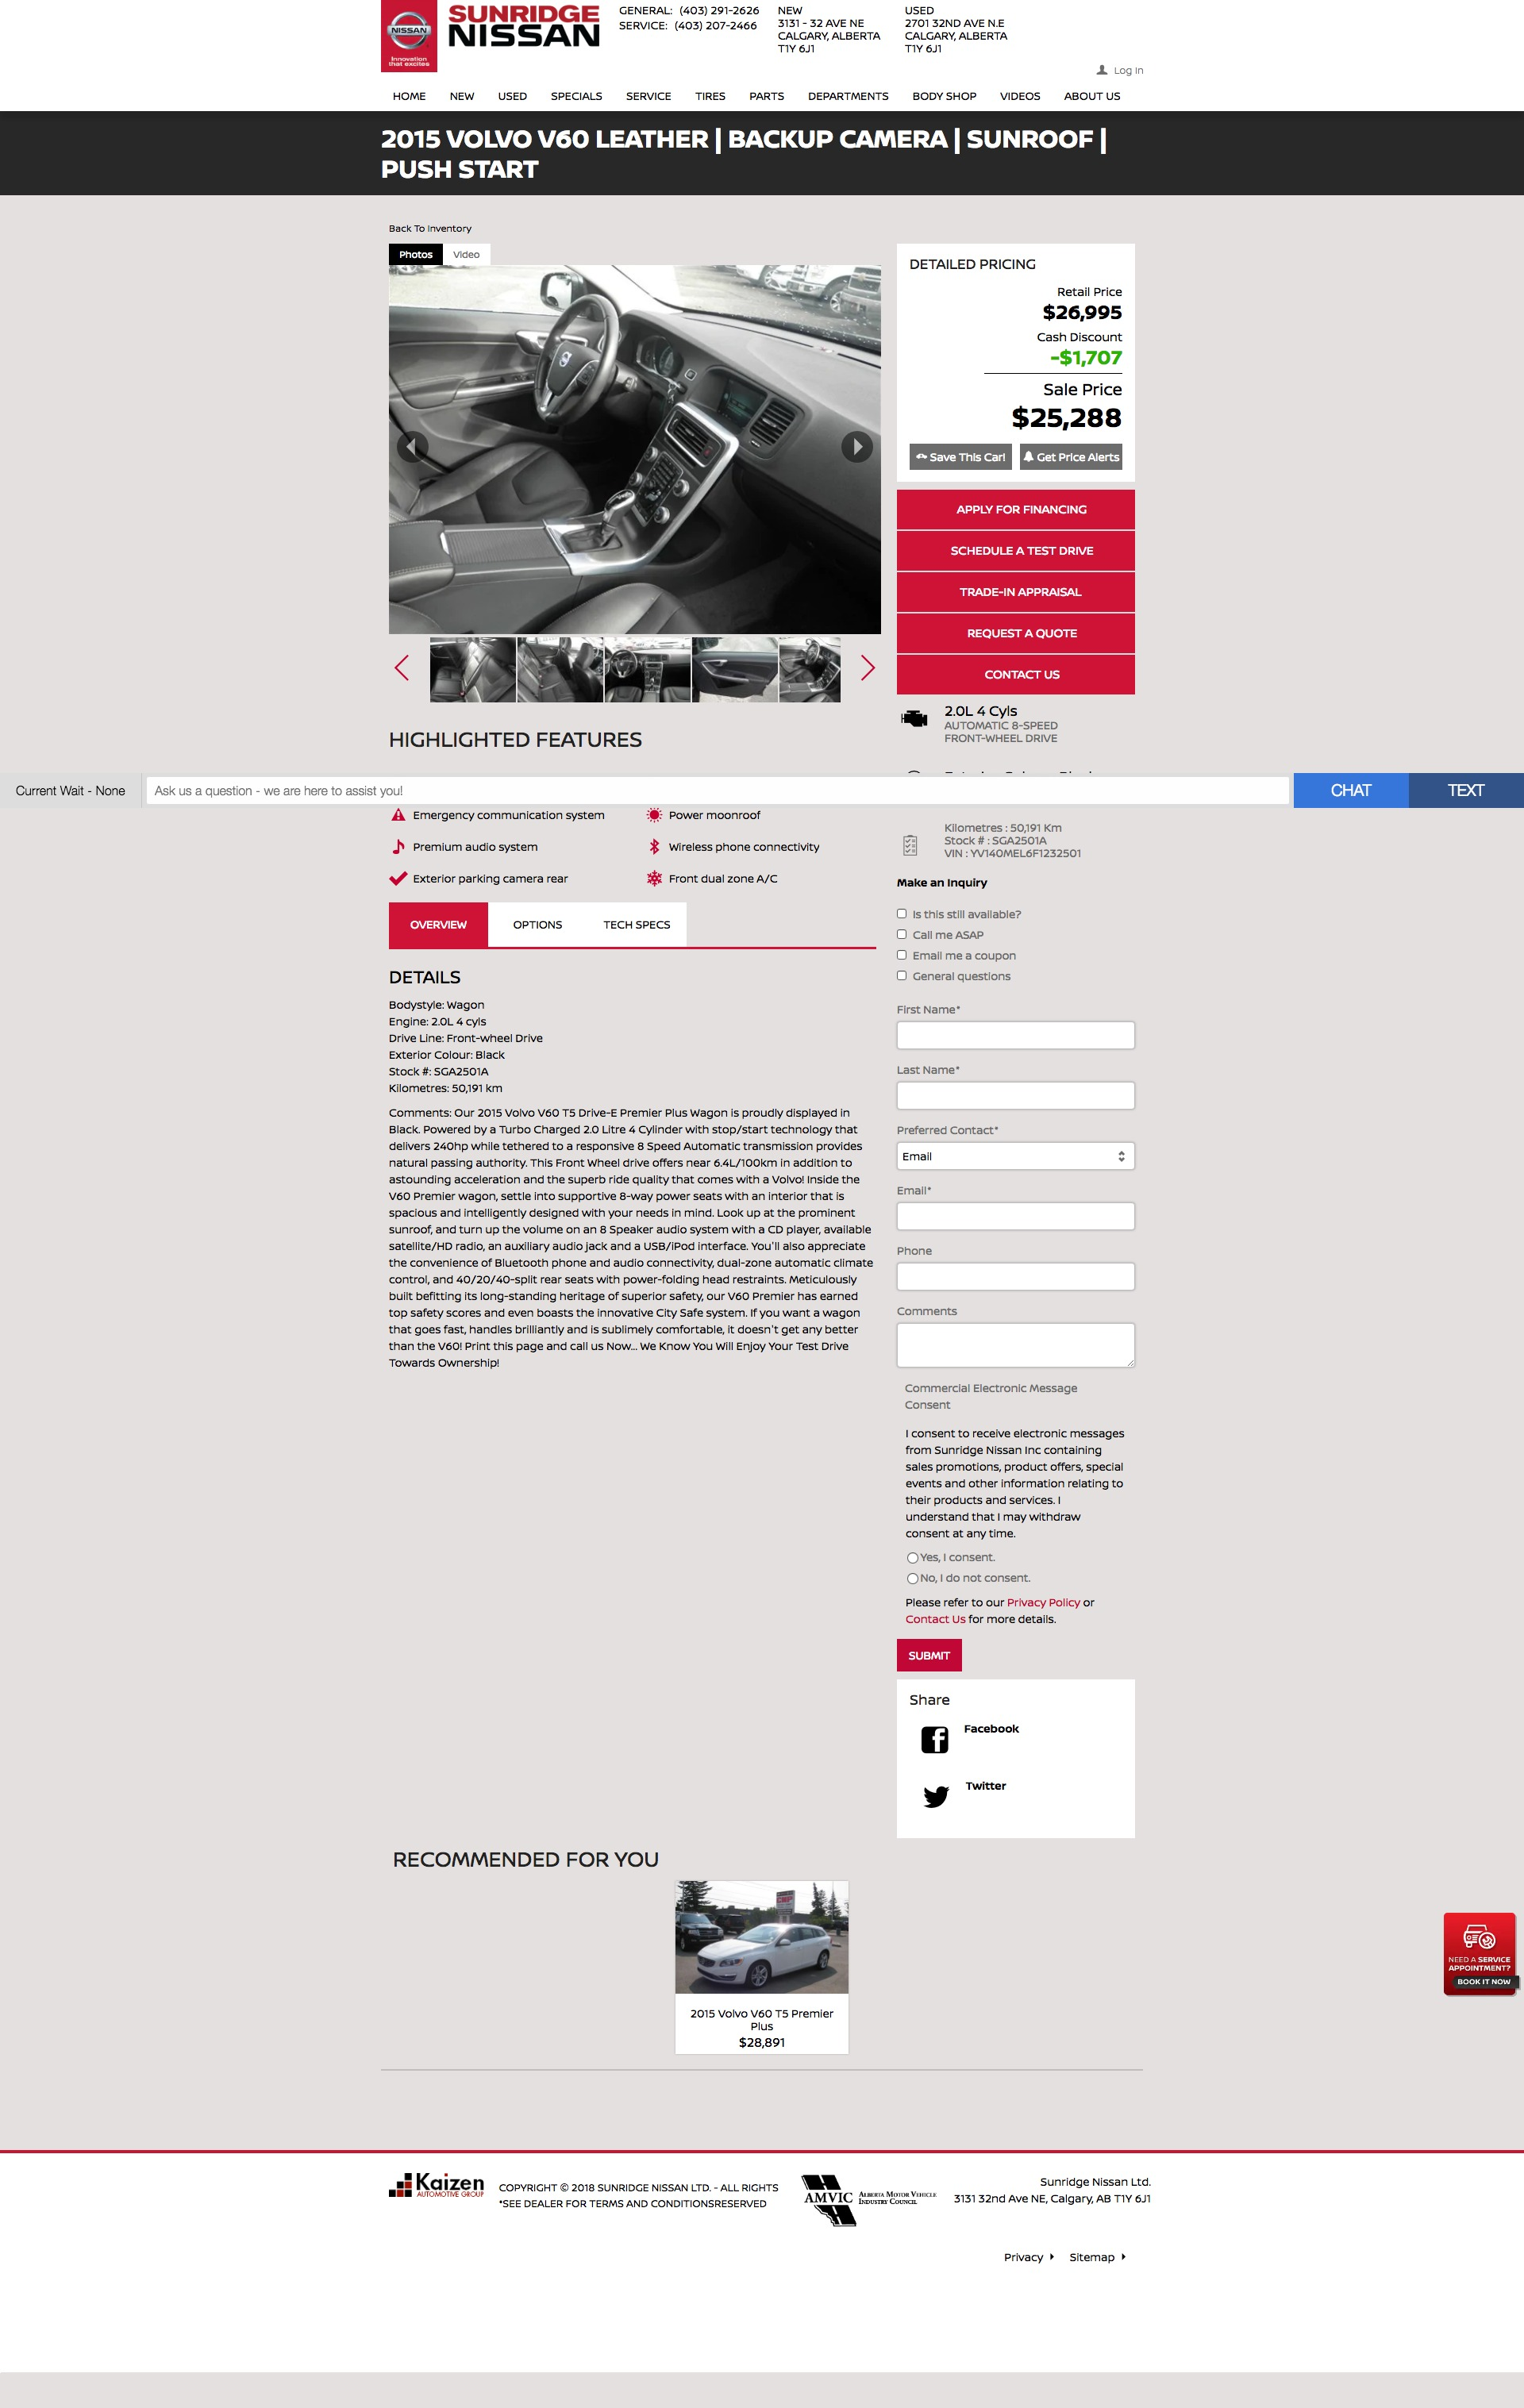car: (862, 655, 878, 683)
